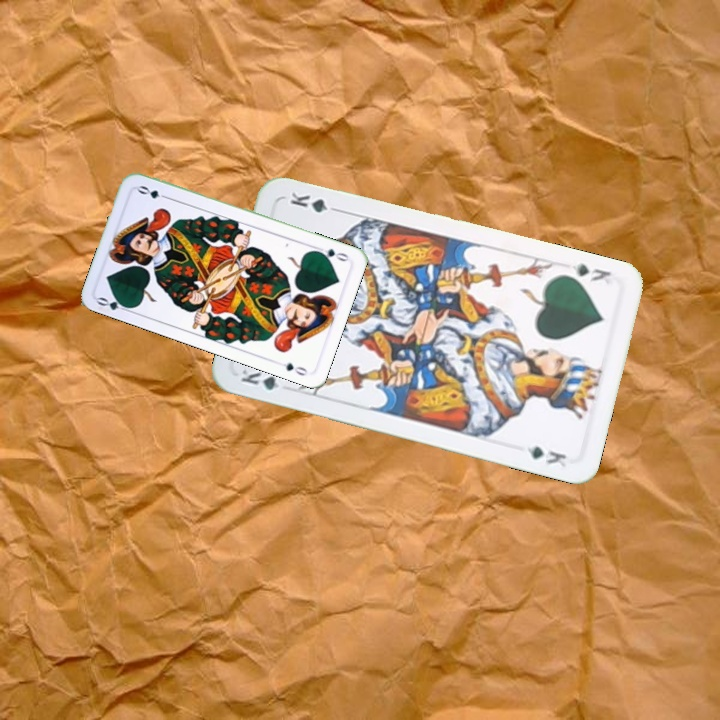GK: (237, 365, 295, 394), (568, 260, 614, 285)
GO: (93, 293, 134, 315), (311, 244, 351, 264)
